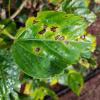Tomato leaf bacterial spot: (12, 10, 94, 80)
